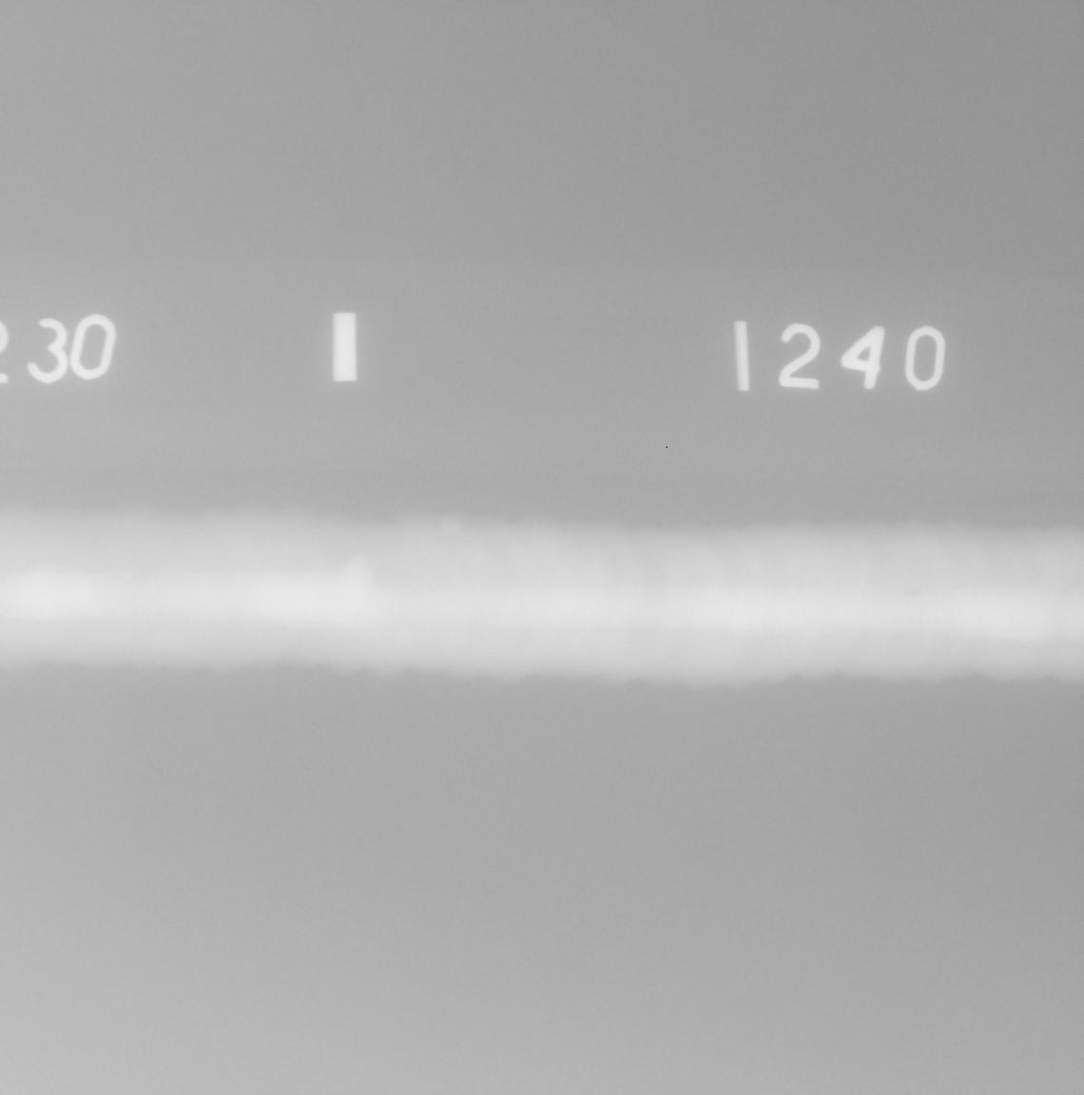Pore/Porosity: (906, 591, 919, 595)
